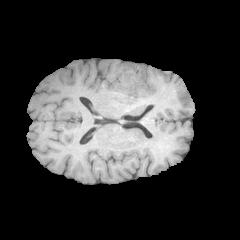glioma: (104, 60, 149, 101)
